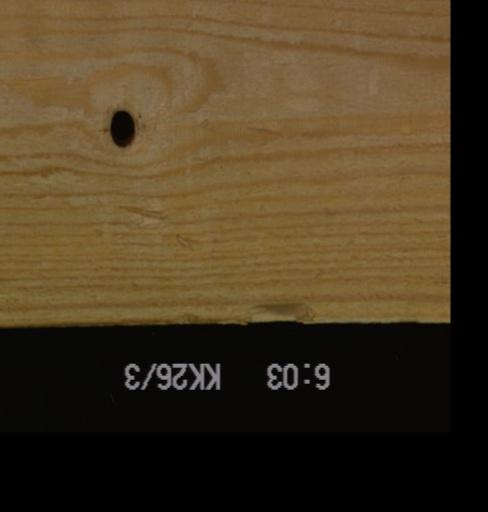wave: (239, 295, 319, 322)
